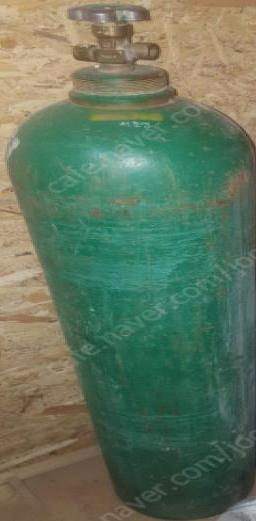cylinder: (1, 1, 256, 521)
